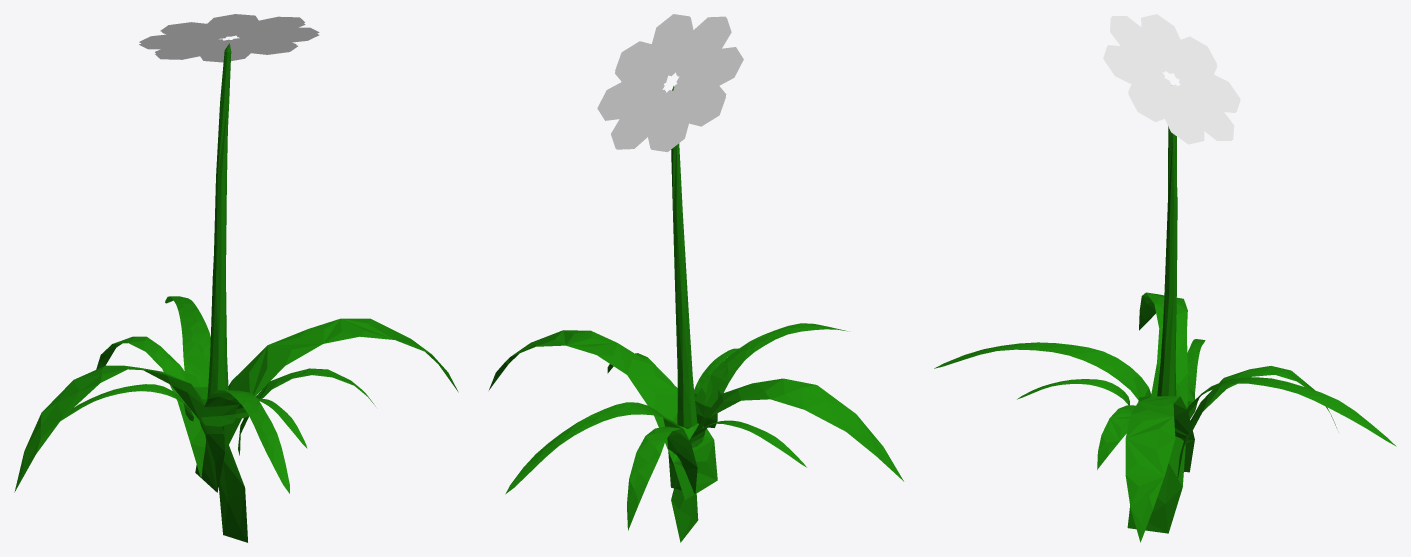
File: plant.fbx
The picture shows the model from 3 angles, left to right: view 1: azimuth 30°, elevation 25°; view 2: azimuth 150°, elevation 25°; view 3: azimuth 270°, elevation 25°; orthographic projection. The views are drawn at different scales.
Visible parts, largest first — view 1: Plane.003, Plane.002, Cylinder.002, Plane.001, Plane.004, Plane.007, Plane.006, Plane.008, Plane.018, Plane.016, Plane.019, Plane.017 (+4 smaller); view 2: Plane.003, Plane.002, Cylinder.002, Plane.007, Plane.001, Plane.004, Plane.009, Plane.011, Plane.010, Plane, Plane.020, Plane.023 (+3 smaller); view 3: Plane.003, Plane.002, Cylinder.002, Plane.001, Plane.004, Plane.010, Plane.011, Plane.009, Plane, Plane.007, Plane.020, Plane.023 (+5 smaller).
Part boxes in pixels (x1=…): Plane.003: x1=195, y1=318, x2=458, y2=492; Plane.002: x1=14, y1=365, x2=247, y2=542; Cylinder.002: x1=207, y1=43, x2=231, y2=399; Plane.001: x1=201, y1=390, x2=289, y2=493; Plane.004: x1=165, y1=296, x2=210, y2=408; Plane.007: x1=96, y1=336, x2=205, y2=477; Plane.006: x1=238, y1=368, x2=375, y2=455; Plane.008: x1=61, y1=384, x2=193, y2=421; Plane.018: x1=155, y1=41, x2=223, y2=59; Plane.016: x1=236, y1=19, x2=305, y2=37; Plane.019: x1=232, y1=39, x2=297, y2=54; Plane.017: x1=162, y1=23, x2=227, y2=39; Plane.003: x1=489, y1=330, x2=717, y2=500; Plane.002: x1=671, y1=378, x2=903, y2=542; Cylinder.002: x1=671, y1=86, x2=697, y2=428; Plane.007: x1=627, y1=426, x2=697, y2=530; Plane.001: x1=695, y1=323, x2=847, y2=427; Plane.004: x1=505, y1=402, x2=687, y2=494; Plane.009: x1=676, y1=47, x2=742, y2=89; Plane.011: x1=597, y1=79, x2=663, y2=120; Plane.010: x1=646, y1=90, x2=689, y2=150; Plane: x1=651, y1=14, x2=693, y2=74; Plane.020: x1=675, y1=16, x2=730, y2=75; Plane.023: x1=615, y1=41, x2=668, y2=82; Plane.003: x1=1125, y1=396, x2=1194, y2=542; Plane.002: x1=1127, y1=292, x2=1187, y2=533; Cylinder.002: x1=1157, y1=126, x2=1177, y2=396; Plane.001: x1=934, y1=342, x2=1151, y2=399; Plane.004: x1=1187, y1=377, x2=1396, y2=446; Plane.010: x1=1180, y1=72, x2=1240, y2=111; Plane.011: x1=1165, y1=84, x2=1204, y2=143; Plane.009: x1=1143, y1=14, x2=1183, y2=73; Plane: x1=1104, y1=45, x2=1164, y2=84; Plane.007: x1=1177, y1=366, x2=1336, y2=477; Plane.020: x1=1111, y1=16, x2=1165, y2=71; Plane.023: x1=1128, y1=76, x2=1171, y2=119.
Size of the model in its own units: 119 by 139 by 115.
